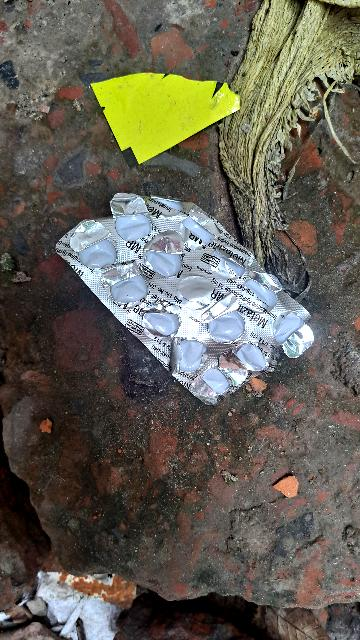medicine: (32, 138, 331, 435)
